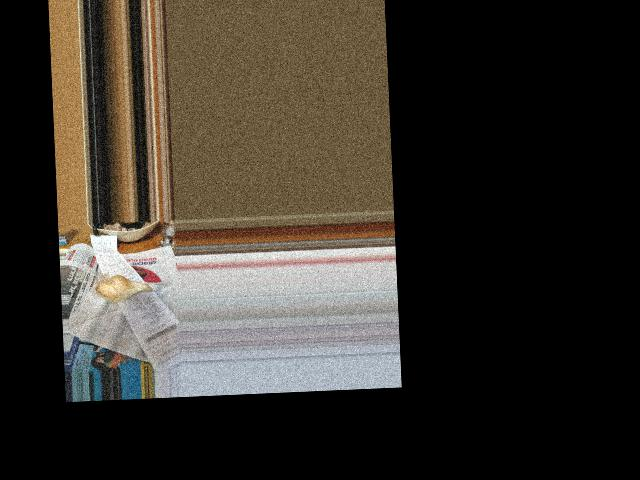onion: (93, 272, 146, 304)
